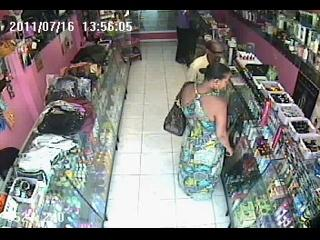Normal: (177, 63, 234, 202), (186, 39, 226, 82), (163, 94, 186, 136)
